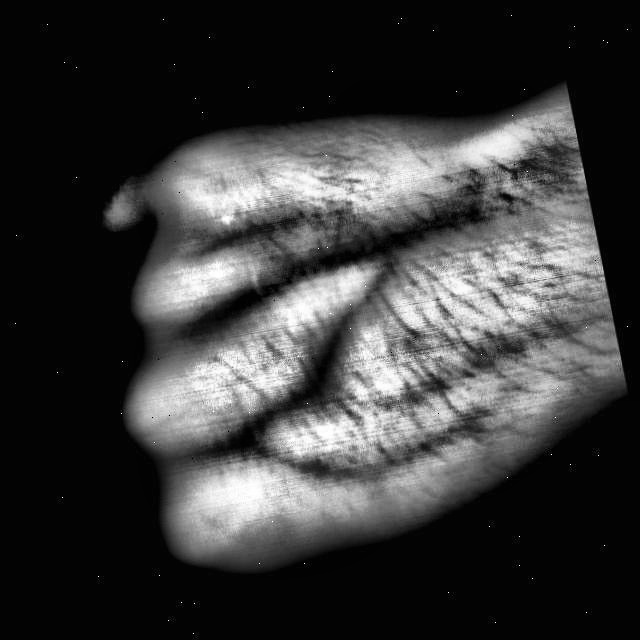Vein: (305, 188, 513, 286)
